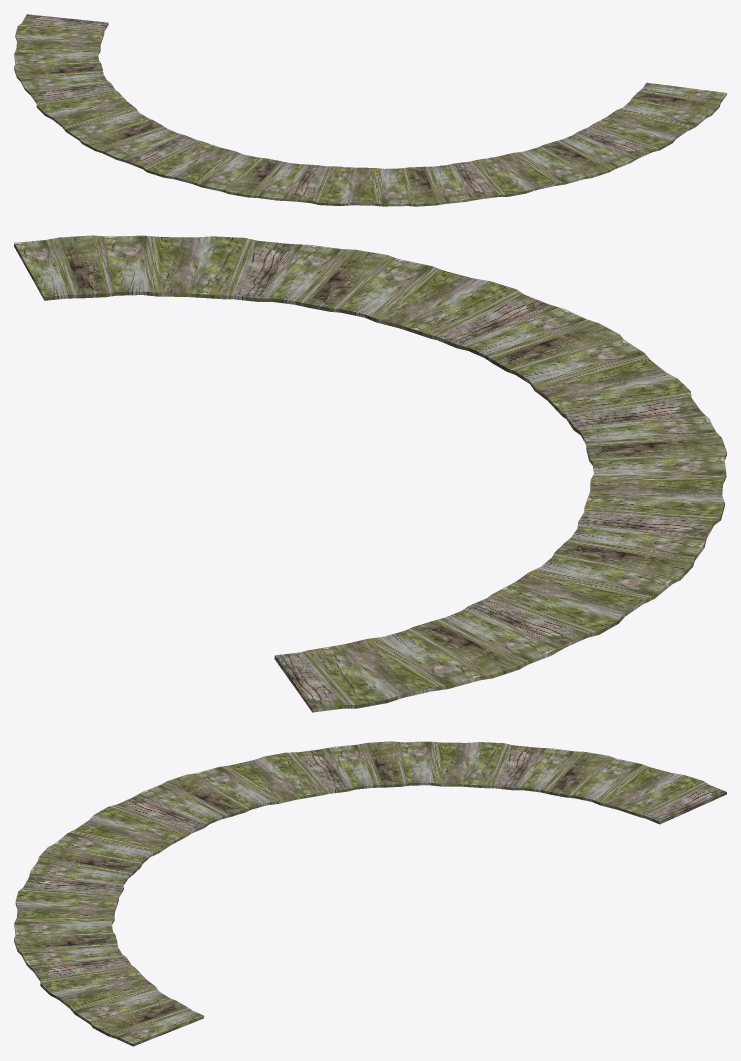
File: RAMP-001.fbx
3 views of the same model, one above another, from view 1: azimuth 30°, elevation 25°; view 2: azimuth 150°, elevation 25°; view 3: azimuth 270°, elevation 25° (orthographic). The views are drawn at different scales.
Parts seen in each view (by area): view 1: ramp_001; view 2: ramp_001; view 3: ramp_001.
Boxes of the visible parts, x1,y1,x2,y2 form: ramp_001: (14,14,726,206); ramp_001: (14,235,726,712); ramp_001: (14,741,726,1046).
Bounding box in the file's own units: 731 × 3 × 728.
